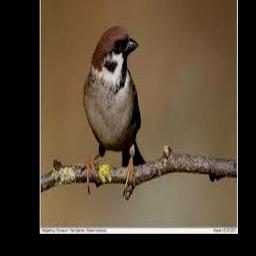Sparrow: (83, 25, 146, 196)
